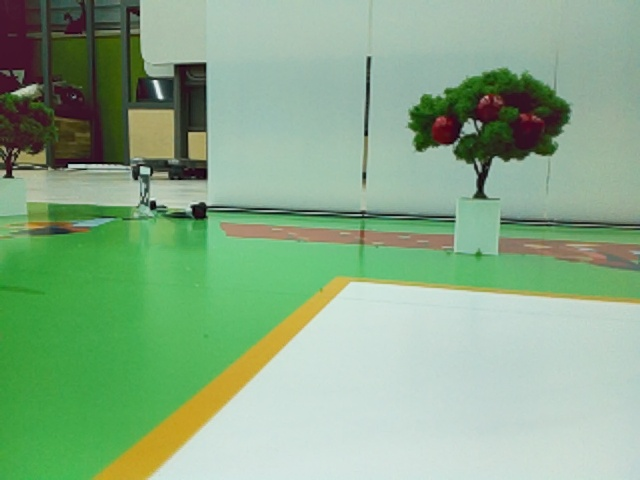apple: (432, 116, 453, 144), (478, 95, 503, 117)
